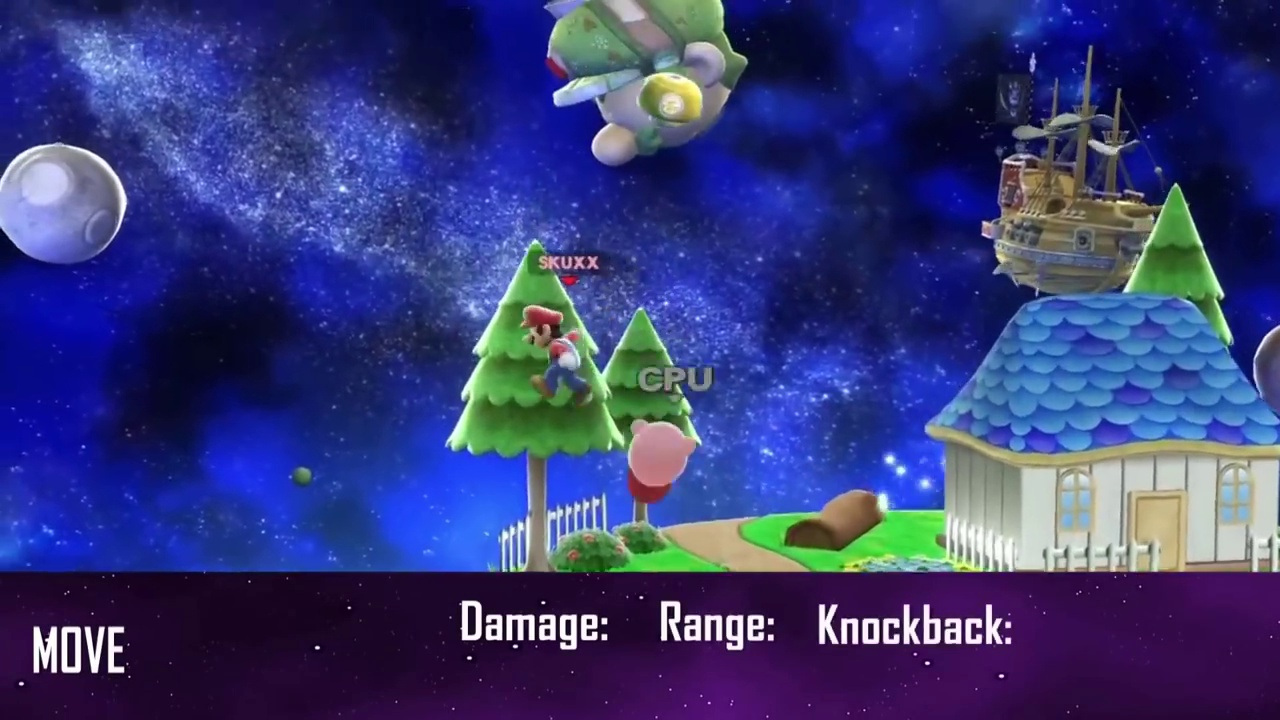Mario: (522, 307, 592, 409)
